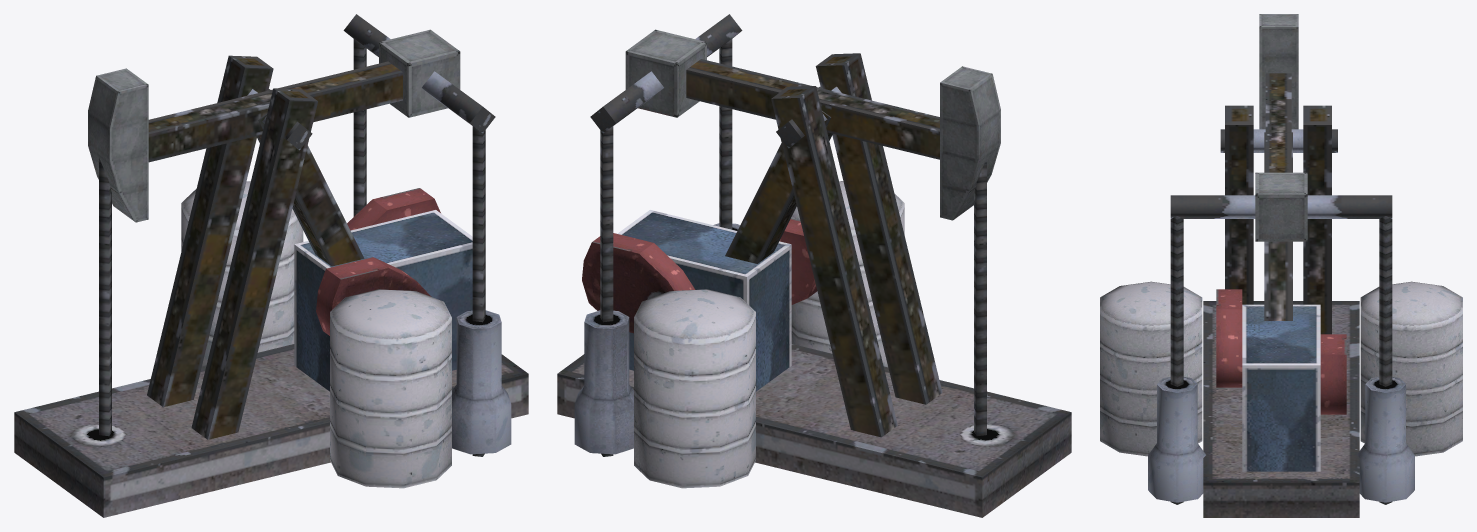
File: OilPump.gltf
3 views of the same model, side by side, from view 1: azimuth 30°, elevation 25°; view 2: azimuth 150°, elevation 25°; view 3: azimuth 270°, elevation 25° (orthographic). The views are drawn at different scales.
Parts seen in each view (by area): view 1: OilWell; view 2: OilWell; view 3: OilWell.
Boxes of the visible parts, left/top/right/bottom form: OilWell: left=14, top=14, right=528, bottom=517; OilWell: left=557, top=14, right=1071, bottom=517; OilWell: left=1100, top=14, right=1462, bottom=517.
Size of the model in its own units: 8.38 by 7.62 by 7.07.
1 material, 1 textured.
